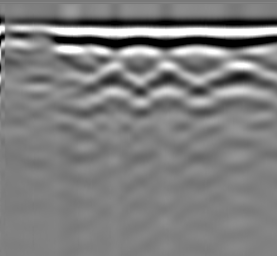pipe: (15, 28, 55, 53)
steel: (91, 64, 141, 108), (213, 64, 266, 102), (150, 66, 193, 107)
